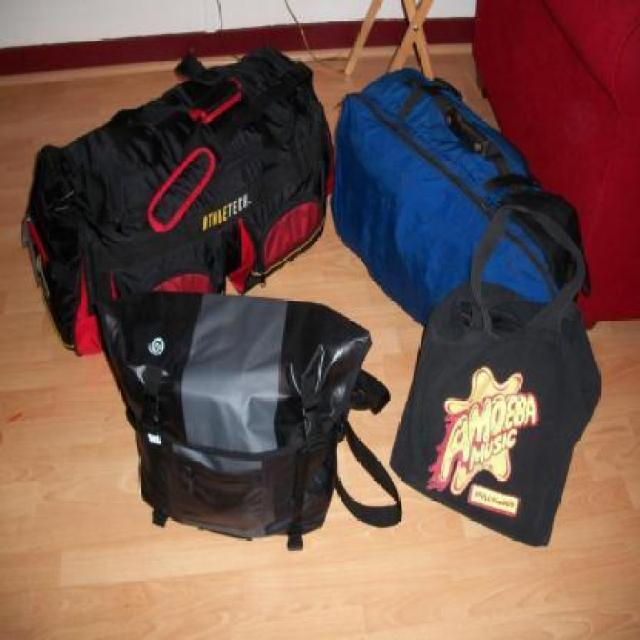backpack: (19, 41, 332, 294), (91, 286, 380, 554), (332, 65, 596, 309), (389, 272, 605, 552)
